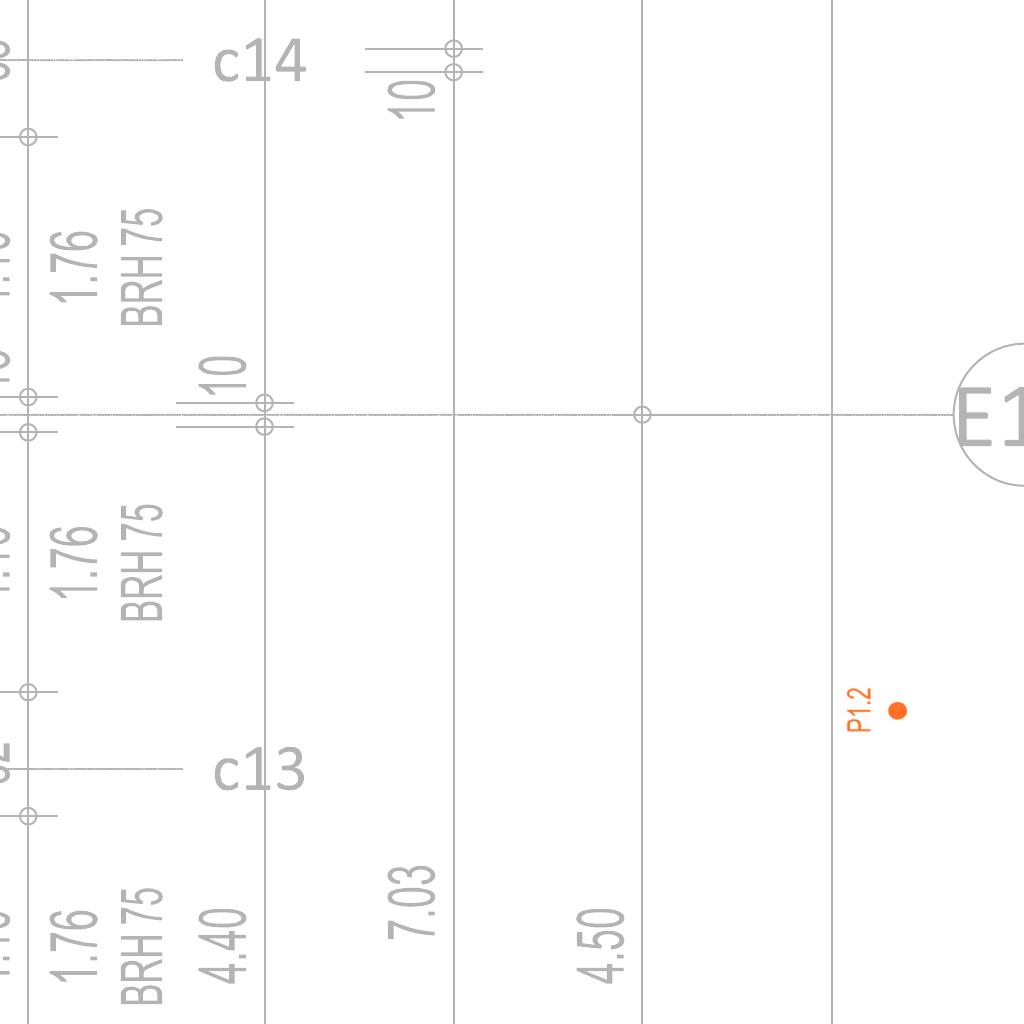Downlight_LED_Einbauleuchten_Flur: (845, 687, 909, 733)
